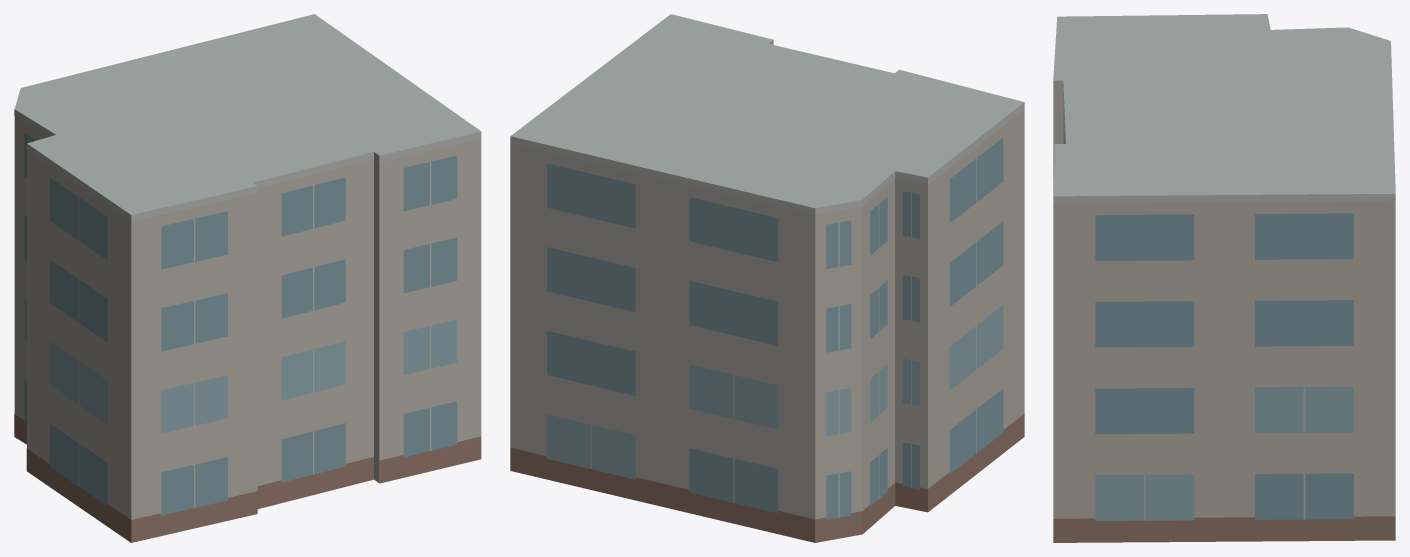
The model's file is survey-upis-32846191.glb.
The picture shows the model from 3 angles, left to right: view 1: azimuth 30°, elevation 25°; view 2: azimuth 150°, elevation 25°; view 3: azimuth 270°, elevation 25°; orthographic projection. The views are drawn at different scales.
Parts seen in each view (by area): view 1: survey-upis-32846191.tmp; view 2: survey-upis-32846191.tmp; view 3: survey-upis-32846191.tmp.
Boxes of the visible parts, x1,y1,x2,y2 form: survey-upis-32846191.tmp: (14, 14, 481, 542); survey-upis-32846191.tmp: (510, 14, 1024, 542); survey-upis-32846191.tmp: (1053, 14, 1395, 542).
Size of the model in its own units: 13.2 by 11.7 by 10.49.
